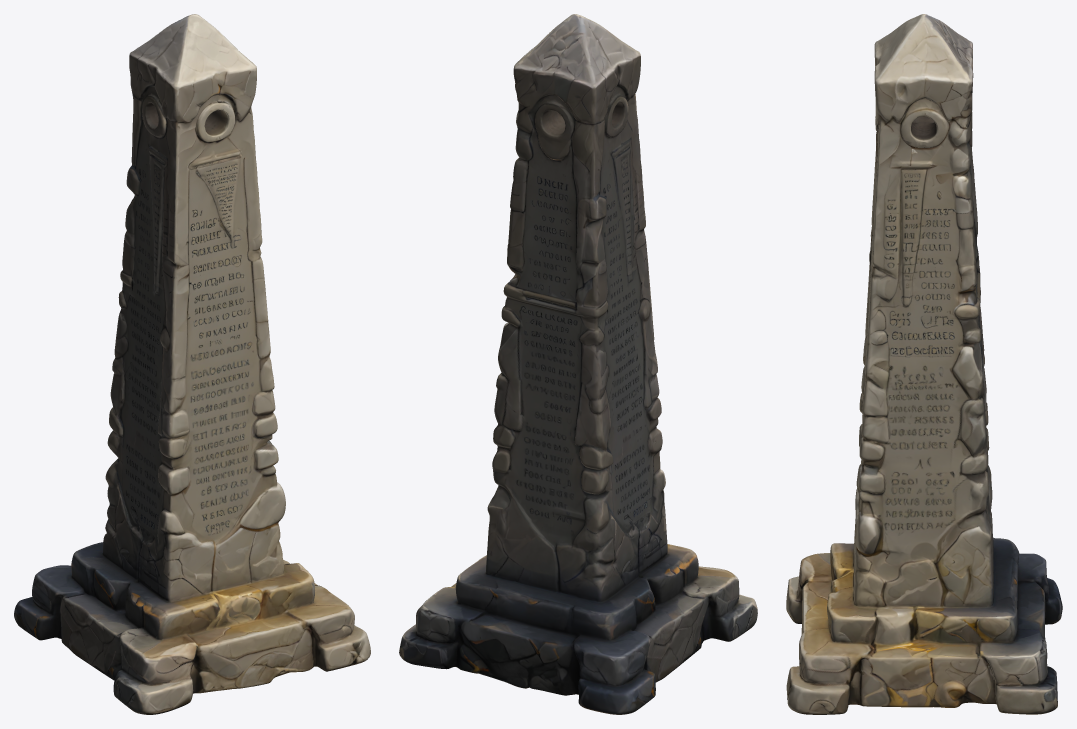
The model's file is plaza-monument.glb.
3 views of the same model, side by side, from view 1: azimuth 30°, elevation 25°; view 2: azimuth 150°, elevation 25°; view 3: azimuth 270°, elevation 25° (orthographic). The views are drawn at different scales.
Parts seen in each view (by area): view 1: tripo_node_8c9b60d8-2965-47ee-8804-554b9947d43d; view 2: tripo_node_8c9b60d8-2965-47ee-8804-554b9947d43d; view 3: tripo_node_8c9b60d8-2965-47ee-8804-554b9947d43d.
Part boxes in pixels (x1,y1,x2,y2): tripo_node_8c9b60d8-2965-47ee-8804-554b9947d43d: (14, 14, 370, 714); tripo_node_8c9b60d8-2965-47ee-8804-554b9947d43d: (399, 14, 757, 714); tripo_node_8c9b60d8-2965-47ee-8804-554b9947d43d: (786, 14, 1062, 714).
Size of the model in its own units: 3.13 by 8 by 3.11.
Materials: 1 (1 with a texture image).
